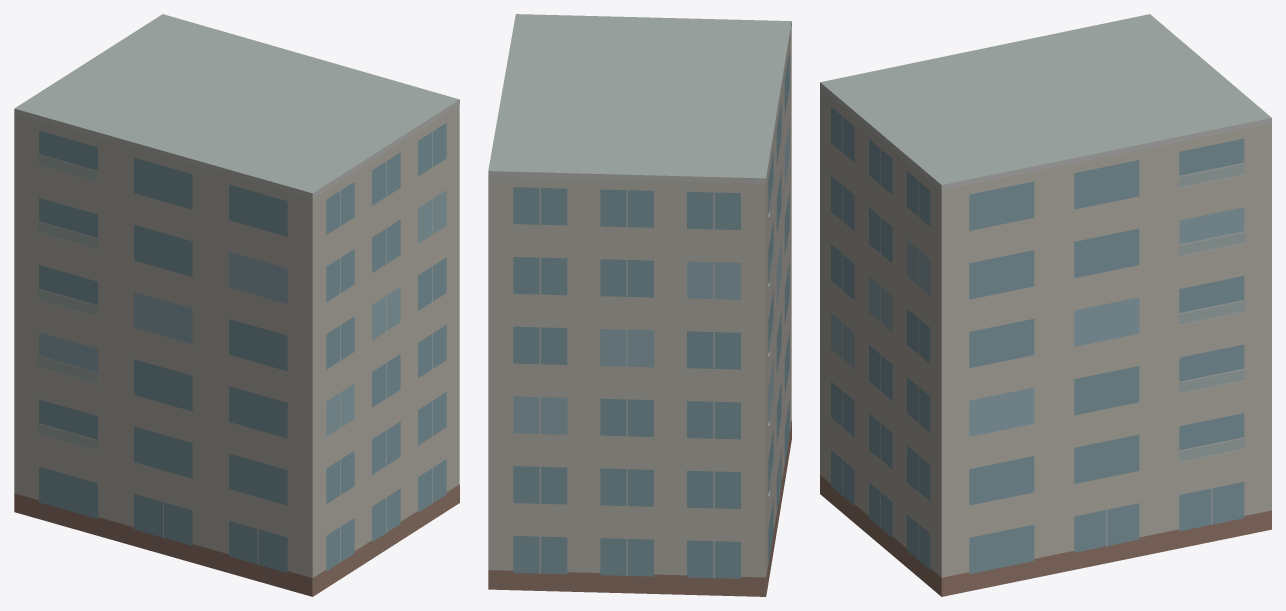
File: survey-upis-32747460.glb
3 views of the same model, side by side, from view 1: azimuth 30°, elevation 25°; view 2: azimuth 150°, elevation 25°; view 3: azimuth 270°, elevation 25° (orthographic). The views are drawn at different scales.
Parts seen in each view (by area): view 1: survey-upis-32747460.tmp; view 2: survey-upis-32747460.tmp; view 3: survey-upis-32747460.tmp.
Boxes of the visible parts, x1=… form: survey-upis-32747460.tmp: x1=14, y1=14, x2=459, y2=596; survey-upis-32747460.tmp: x1=488, y1=14, x2=791, y2=596; survey-upis-32747460.tmp: x1=820, y1=14, x2=1271, y2=596.
Bounding box in the file's own units: 16.58 × 18.6 × 18.5.
